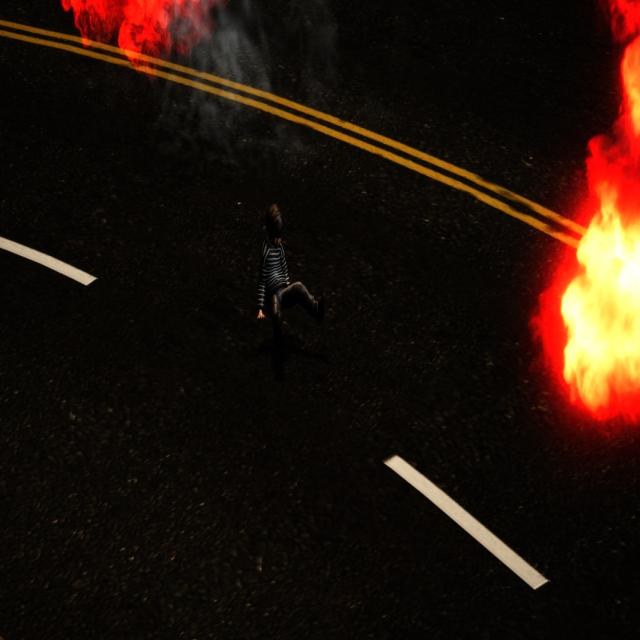Human: (249, 202, 333, 350)
